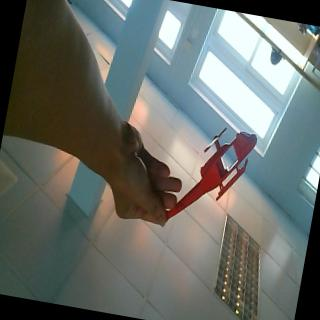Helicopter: (164, 114, 259, 236)
